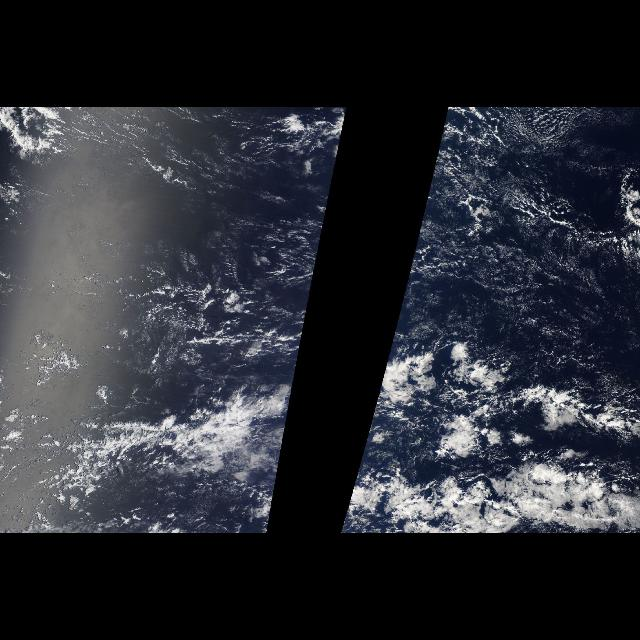Fish: (340, 345, 640, 533), (54, 345, 300, 533)
Sugar: (65, 108, 348, 342), (392, 108, 640, 342)
